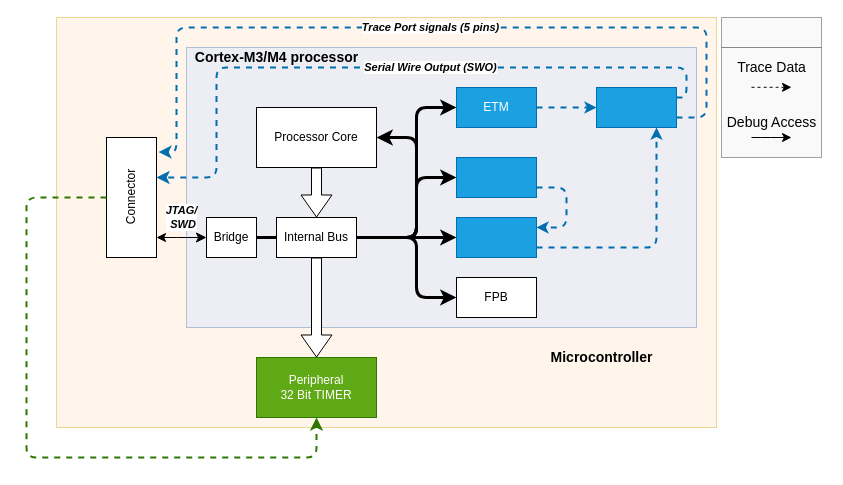
Image size: 843x485. Some labels were removed from this diagram. The shapes that lost their labels are listed below. From the top down, each one's centre as x and y in pixels, then its label:
(x=771, y=32): Legend
(x=636, y=107): TPIU
(x=496, y=177): DWT
(x=496, y=237): ITM
